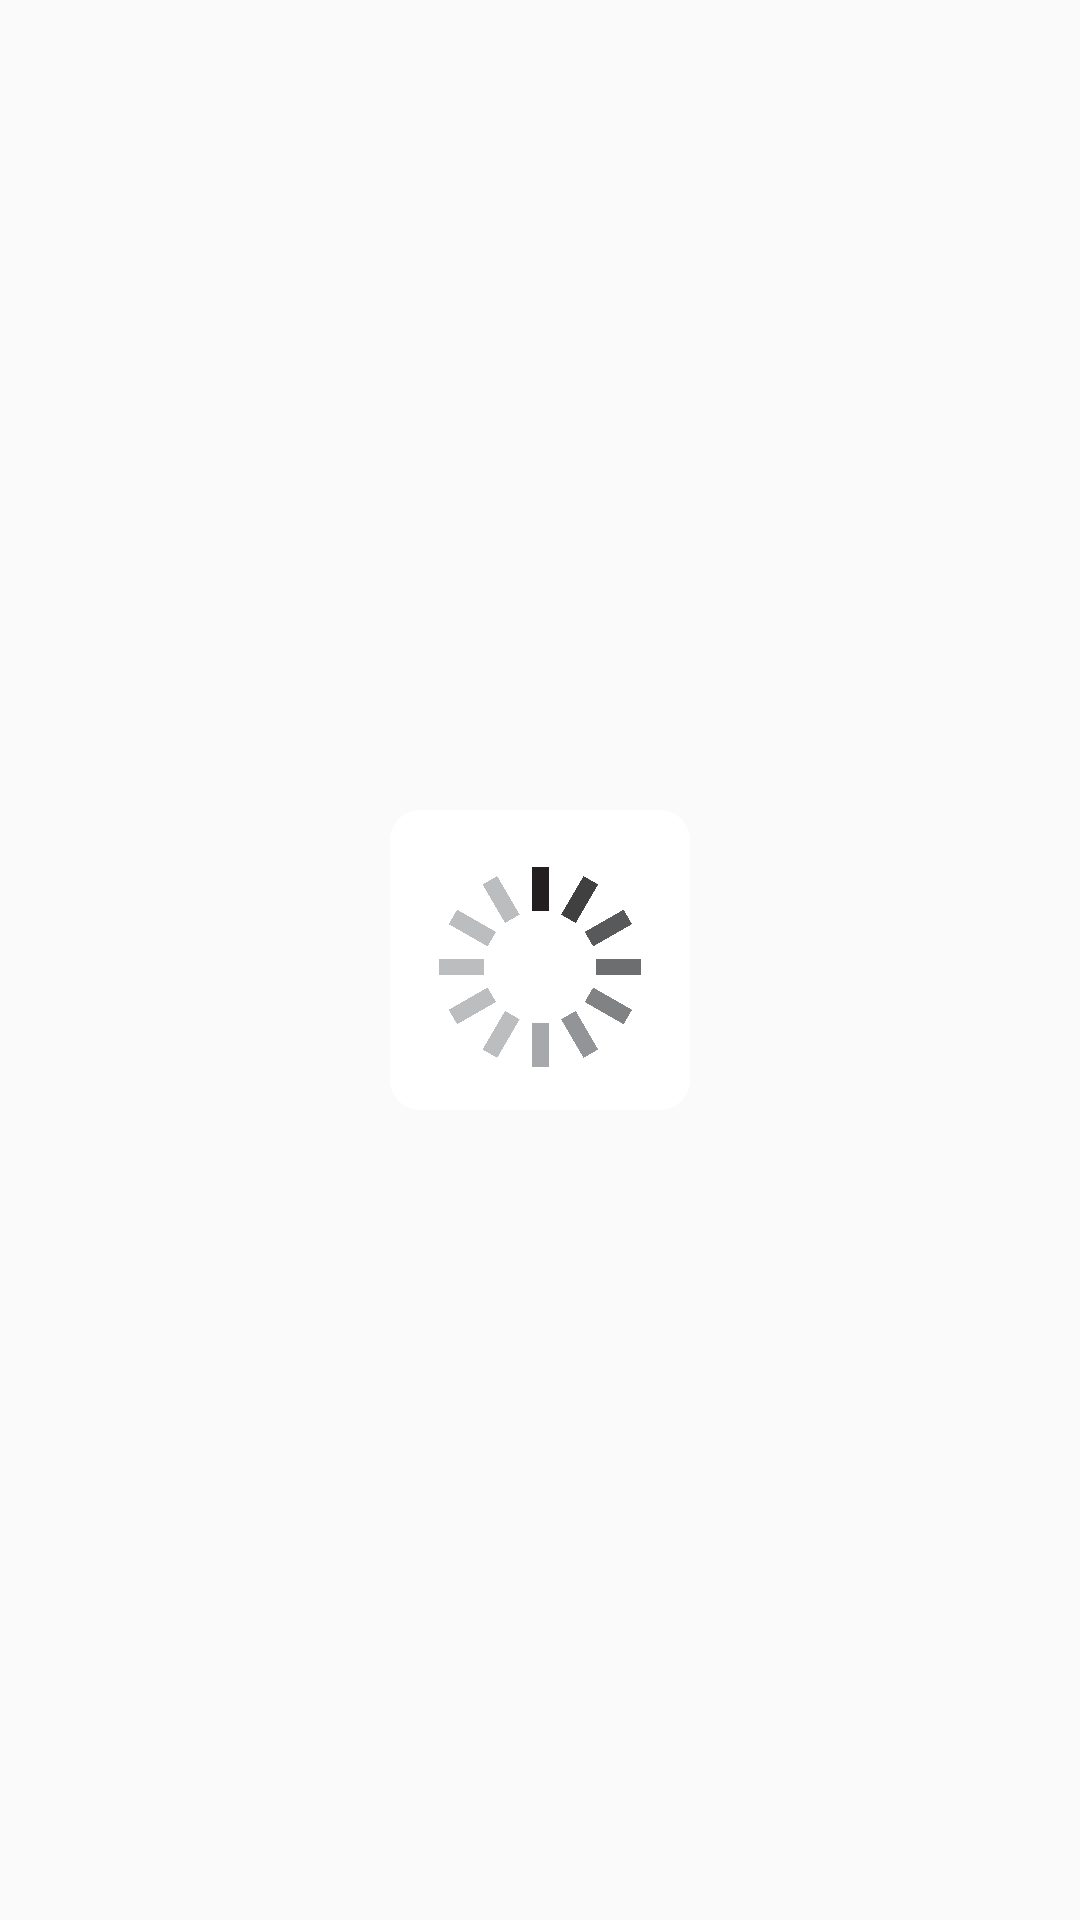

Locate icon controls on the screen. Image size 1080w x 1920h, boxes as (x1, y1, x2, y2).
loading: (439, 867, 641, 1067)
